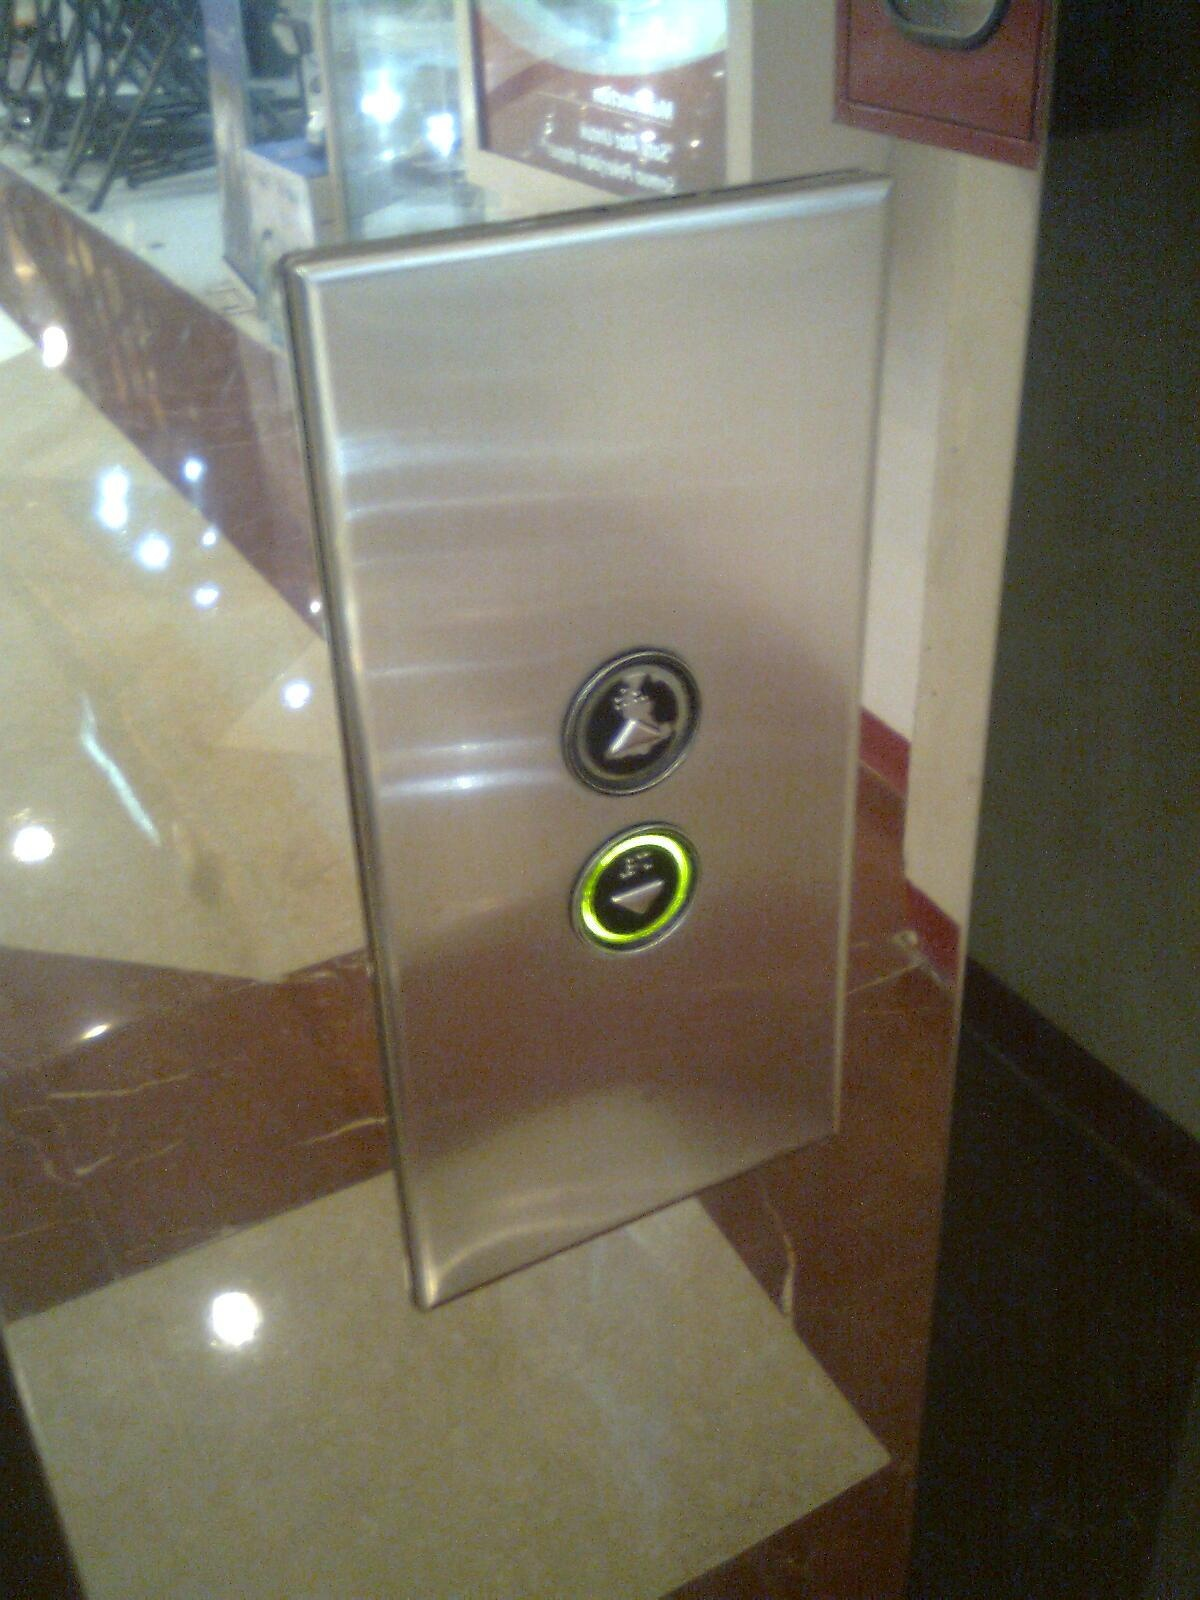down: (568, 815, 703, 964)
up: (553, 648, 703, 803)
